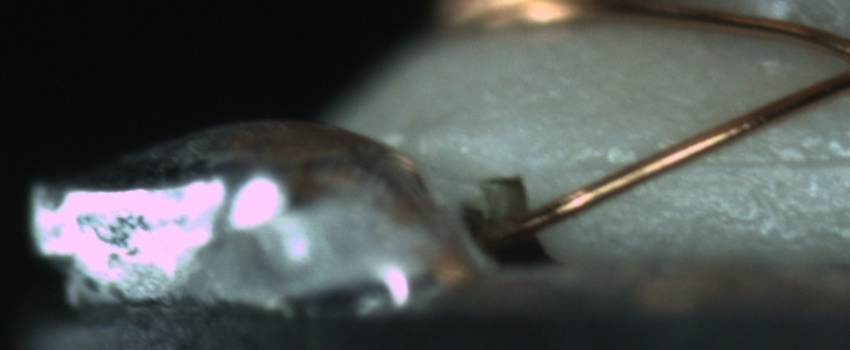CL: (834, 37, 850, 89)
DL: (572, 132, 849, 195)
